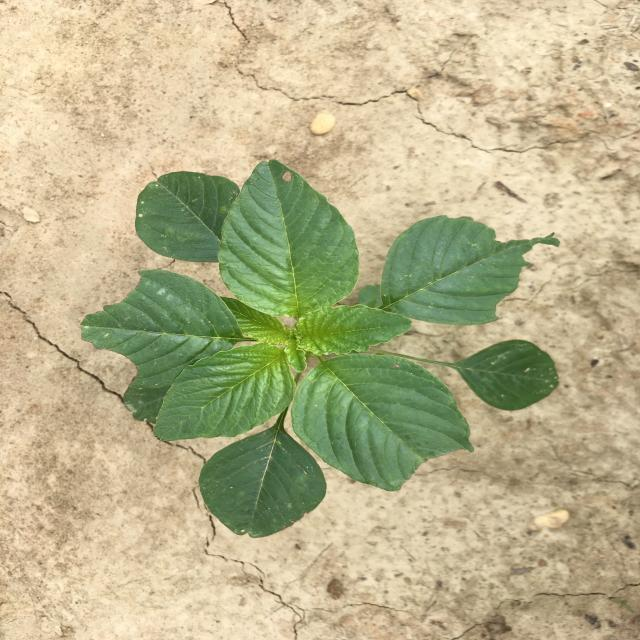PalmerAmaranth: (80, 158, 562, 538)
